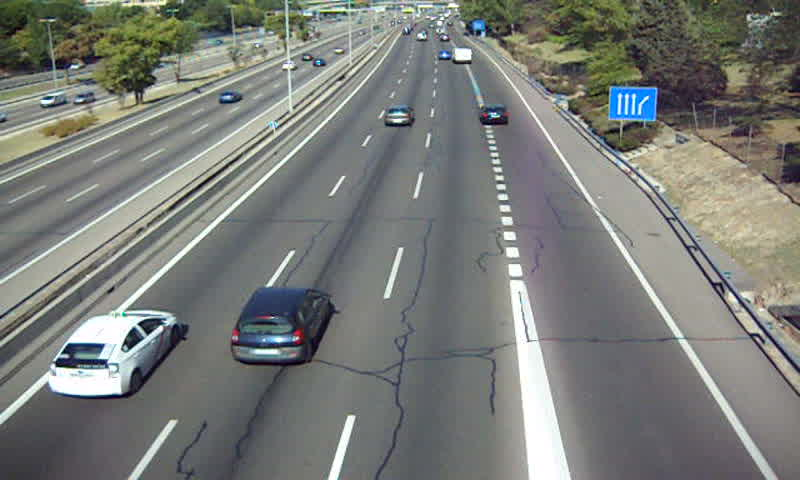car: (48, 310, 178, 396), (231, 288, 330, 365), (384, 105, 414, 128), (477, 104, 509, 124)
van: (451, 48, 474, 63)
